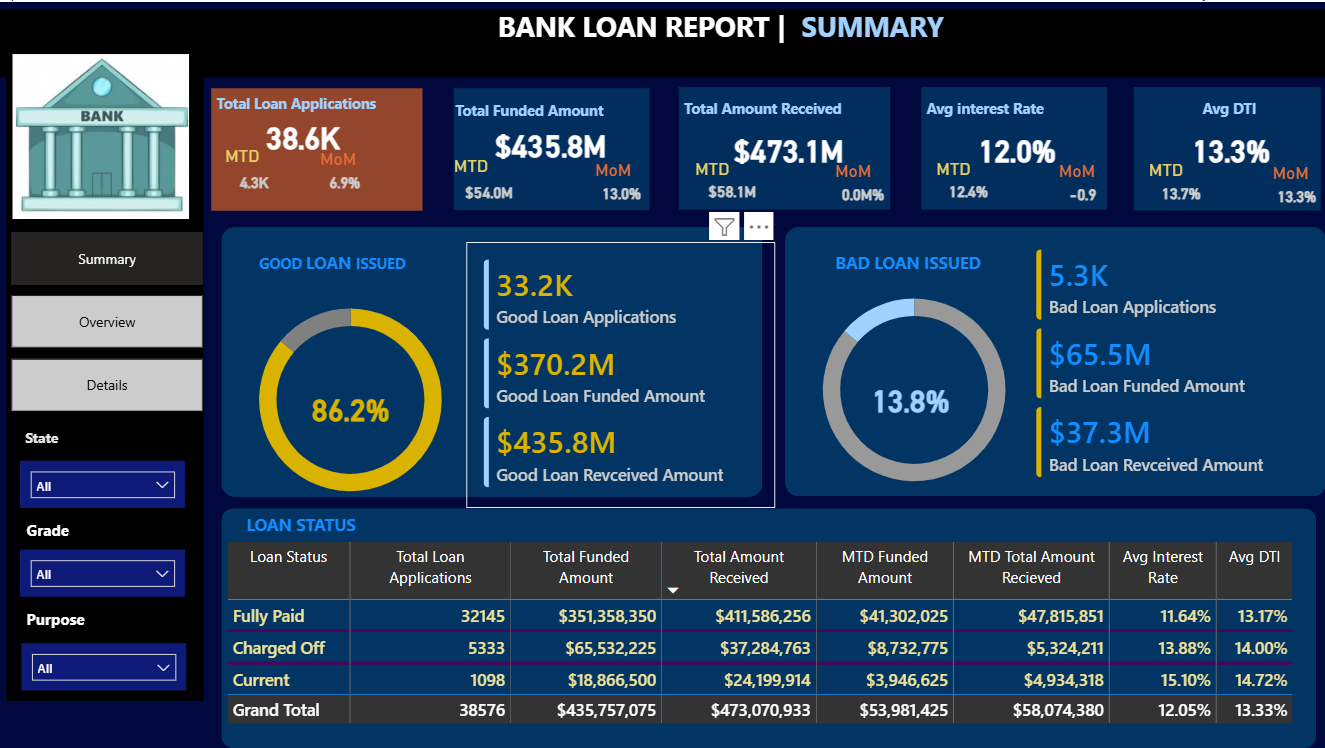

The page's visual inventory and layout, read from the dashboard file:
{"tool":"powerbi","page":{"name":"Summary","canvas":[1280,720],"ordinal":0},"visuals":[{"type":"shape","box":[0,7.8,1280,65.6],"z":0},{"type":"shape","box":[655.1,82,204,118.2],"z":0,"group":"g1"},{"type":"shape","box":[889.1,82,179.3,118.2],"z":0,"group":"g3"},{"type":"shape","box":[1094.2,82,180.5,119.4],"z":0,"group":"g4"},{"type":"shape","box":[438.1,83.2,189,118],"z":0,"group":"g2"},{"type":"shape","box":[6,19.3,190.6,655.1],"z":1000},{"type":"card","fields":{"Values":["Bank_Loan_Data.Total Funded Amount"]},"box":[470.4,115,122.2,47],"z":1000,"group":"g2"},{"type":"card","fields":{"Values":["Bank_Loan_Data.Total Amount Received"]},"box":[696.7,121.3,128,41.5],"z":1000,"group":"g1"},{"type":"card","fields":{"Values":["Bank_Loan_Data.Avg Interest Rate"]},"box":[925.7,121.3,112.6,41.5],"z":1000,"group":"g3"},{"type":"card","fields":{"Values":["Bank_Loan_Data.Avg DTI"]},"box":[1131.1,121.7,113.3,41.9],"z":1000,"group":"g4"},{"type":"textbox","box":[474.8,0,451.5,49.4],"z":2000},{"type":"card","title":"MoM","fields":{"Values":["Bank_Loan_Data.MoM Total Funded Amount"]},"box":[569.4,152.2,61.1,49.4],"z":2000,"group":"g2"},{"type":"card","title":"MoM","fields":{"Values":["Bank_Loan_Data.MoM Total Amount Recieved"]},"box":[801,153.2,64,43.4],"z":2000,"group":"g1"},{"type":"card","title":"MoM","fields":{"Values":["Bank_Loan_Data.MoM Avg Int Rate"]},"box":[1017.4,153.2,56.3,43.4],"z":2000,"group":"g3"},{"type":"card","title":"MoM","fields":{"Values":["Bank_Loan_Data.MoM Avg DTI"]},"box":[1223.3,153.9,56.7,43.9],"z":2000,"group":"g4"},{"type":"shape","box":[203.9,83.2,203.9,118.2],"z":3000},{"type":"textbox","box":[655.4,87.8,208.4,33.8],"z":3000,"group":"g1"},{"type":"textbox","box":[889.4,87.8,183.3,33.8],"z":3000,"group":"g3"},{"type":"textbox","box":[1094.5,87.9,184.5,34.1],"z":3000,"group":"g4"},{"type":"textbox","box":[434.2,90.4,196.2,30],"z":3000,"group":"g2"},{"type":"textbox","box":[203.9,83.2,176.1,31.4],"z":4000},{"type":"card","title":"MTD","fields":{"Values":["Bank_Loan_Data.MTD Funded Amount"]},"box":[433.1,148.5,78.1,54.2],"z":4000,"group":"g2"},{"type":"card","title":"MTD","fields":{"Values":["Bank_Loan_Data.MTD Total Amount Recieved"]},"box":[665.5,150.8,81.9,48.3],"z":4000,"group":"g1"},{"type":"card","title":"MTD","fields":{"Values":["Bank_Loan_Data.MTD Avg Int Rate"]},"box":[898.2,150.8,72,48.3],"z":4000,"group":"g3"},{"type":"card","title":"MTD","fields":{"Values":["Bank_Loan_Data.MTD Avg DTI"]},"box":[1103.4,151.5,72.5,48.8],"z":4000,"group":"g4"},{"type":"card","title":"MoM","fields":{"Values":["Bank_Loan_Data.MoM Loan Applications"]},"box":[304,141.2,57.9,49.5],"z":5000},{"type":"shape","box":[213.5,217.2,522.4,260.6],"z":6000},{"type":"card","fields":{"Values":["Bank_Loan_Data.Total Loan Applications"]},"box":[235.3,105,114.6,49.5],"z":7000},{"type":"card","title":"MTD","fields":{"Values":["Bank_Loan_Data.MTD Loan Applications"]},"box":[212.3,138.7,66.4,54.3],"z":8000},{"type":"group","id":"g1","title":"Group 1","box":[655.1,82,209.9,118.2],"z":9000},{"type":"group","id":"g2","title":"Group 1","box":[433.1,83.2,197.4,119.4],"z":10000},{"type":"group","id":"g3","title":"Group 1","box":[889.1,82,183.4,118.2],"z":11000},{"type":"group","id":"g4","title":"Group 1","box":[1094.2,82,185.8,119.4],"z":12000},{"type":"shape","box":[757.5,217.5,522.5,260],"z":13000},{"type":"donutChart","fields":{"Category":["Bank_Loan_Data.Good vs Bad Loan"],"Y":["Bank_Loan_Data.Total Loan Applications"]},"box":[213.5,269,249.7,230.4],"z":14000},{"type":"card","fields":{"Values":["Bank_Loan_Data.Good Loan %"]},"box":[284.7,355.9,107.4,73.6],"z":15000},{"type":"textbox","box":[245,235,235,46.2],"z":16000},{"type":"cardVisual","fields":{"Data":["Bank_Loan_Data.Good Loan Applications","Bank_Loan_Data.Good Loan Funded Amount","Bank_Loan_Data.Good Loan Revceived Amount"]},"box":[450,231.6,298,257],"z":17000},{"type":"donutChart","fields":{"Category":["Bank_Loan_Data.Good vs Bad Loan"],"Y":["Bank_Loan_Data.Total Loan Applications"]},"box":[757.6,259.4,249.7,230.4],"z":18000},{"type":"textbox","box":[801.1,235.3,185.8,42.2],"z":19000},{"type":"card","fields":{"Values":["Bank_Loan_Data.Bad Loan %"]},"box":[825.2,347.5,107.4,73.6],"z":20000},{"type":"shape","box":[213.5,488.6,1056.8,231.6],"z":21000},{"type":"cardVisual","fields":{"Data":["Bank_Loan_Data.Bad Loan Applications","Bank_Loan_Data.Bad Loan Funded Amount","Bank_Loan_Data.Bad Loan Revceived Amount"]},"box":[983.2,222,296.8,255.8],"z":22000},{"type":"tableEx","fields":{"Values":["Bank_Loan_Data.loan_status","Bank_Loan_Data.Total Loan Applications","Bank_Loan_Data.Total Funded Amount","Bank_Loan_Data.Total Amount Received","Bank_Loan_Data.MTD Funded Amount","Bank_Loan_Data.MTD Total Amount Recieved","Bank_Loan_Data.Avg Interest Rate","Bank_Loan_Data.Avg DTI"]},"box":[213.5,516.4,1048.4,203.9],"z":23000},{"type":"textbox","box":[232.8,488.6,318.5,31.4],"z":24000},{"type":"slicer","fields":{"Values":["Bank_Loan_Data.address_state"]},"box":[19.3,442.8,159.3,45.8],"z":25000},{"type":"textbox","box":[19.3,406.6,78.4,36.2],"z":26000},{"type":"slicer","fields":{"Values":["Bank_Loan_Data.grade"]},"box":[19.3,528.4,159.3,45.8],"z":27000},{"type":"textbox","box":[20.5,494.6,78.4,33.8],"z":28000},{"type":"slicer","fields":{"Values":["Bank_Loan_Data.purpose"]},"box":[20.5,618.9,159.3,45.8],"z":29000},{"type":"textbox","box":[20.5,580.3,132.7,38.6],"z":30000},{"type":"image","box":[12.1,47.1,170.1,165.3],"z":31000},{"type":"pageNavigator","box":[10.9,222,185.8,174.9],"z":32000}]}

Visuals, with their boxes in screenshot pixels (x1, y1, x2, y2), scaled from the page's 1280x720 canvas onto the 1325x748 screenshot:
shape: {"left": 0, "top": 8, "right": 1324, "bottom": 76}
shape: {"left": 678, "top": 85, "right": 889, "bottom": 208}
shape: {"left": 920, "top": 85, "right": 1106, "bottom": 208}
shape: {"left": 1133, "top": 85, "right": 1320, "bottom": 209}
shape: {"left": 454, "top": 86, "right": 649, "bottom": 209}
shape: {"left": 6, "top": 20, "right": 204, "bottom": 701}
card - Bank_Loan_Data.Total Funded Amount: {"left": 487, "top": 119, "right": 613, "bottom": 168}
card - Bank_Loan_Data.Total Amount Received: {"left": 721, "top": 126, "right": 854, "bottom": 169}
card - Bank_Loan_Data.Avg Interest Rate: {"left": 958, "top": 126, "right": 1075, "bottom": 169}
card - Bank_Loan_Data.Avg DTI: {"left": 1171, "top": 126, "right": 1288, "bottom": 170}
textbox: {"left": 491, "top": 0, "right": 959, "bottom": 51}
"MoM" card: {"left": 589, "top": 158, "right": 653, "bottom": 209}
"MoM" card: {"left": 829, "top": 159, "right": 895, "bottom": 204}
"MoM" card: {"left": 1053, "top": 159, "right": 1111, "bottom": 204}
"MoM" card: {"left": 1266, "top": 160, "right": 1324, "bottom": 205}
shape: {"left": 211, "top": 86, "right": 422, "bottom": 209}
textbox: {"left": 678, "top": 91, "right": 894, "bottom": 126}
textbox: {"left": 921, "top": 91, "right": 1110, "bottom": 126}
textbox: {"left": 1133, "top": 91, "right": 1324, "bottom": 127}
textbox: {"left": 449, "top": 94, "right": 653, "bottom": 125}
textbox: {"left": 211, "top": 86, "right": 393, "bottom": 119}
"MTD" card: {"left": 448, "top": 154, "right": 529, "bottom": 211}
"MTD" card: {"left": 689, "top": 157, "right": 774, "bottom": 207}
"MTD" card: {"left": 930, "top": 157, "right": 1004, "bottom": 207}
"MTD" card: {"left": 1142, "top": 157, "right": 1217, "bottom": 208}
"MoM" card: {"left": 315, "top": 147, "right": 375, "bottom": 198}
shape: {"left": 221, "top": 226, "right": 762, "bottom": 496}
card - Bank_Loan_Data.Total Loan Applications: {"left": 244, "top": 109, "right": 362, "bottom": 161}
"MTD" card: {"left": 220, "top": 144, "right": 288, "bottom": 201}
"Group 1" group: {"left": 678, "top": 85, "right": 895, "bottom": 208}
"Group 1" group: {"left": 448, "top": 86, "right": 653, "bottom": 210}
"Group 1" group: {"left": 920, "top": 85, "right": 1110, "bottom": 208}
"Group 1" group: {"left": 1133, "top": 85, "right": 1324, "bottom": 209}
shape: {"left": 784, "top": 226, "right": 1324, "bottom": 496}
donutChart - Bank_Loan_Data.Good vs Bad Loan x Bank_Loan_Data.Total Loan Applications: {"left": 221, "top": 279, "right": 479, "bottom": 519}
card - Bank_Loan_Data.Good Loan %: {"left": 295, "top": 370, "right": 406, "bottom": 446}
textbox: {"left": 254, "top": 244, "right": 497, "bottom": 292}
cardVisual - Bank_Loan_Data.Good Loan Applications x Bank_Loan_Data.Good Loan Funded Amount: {"left": 466, "top": 241, "right": 774, "bottom": 508}
donutChart - Bank_Loan_Data.Good vs Bad Loan x Bank_Loan_Data.Total Loan Applications: {"left": 784, "top": 269, "right": 1043, "bottom": 509}
textbox: {"left": 829, "top": 244, "right": 1022, "bottom": 288}
card - Bank_Loan_Data.Bad Loan %: {"left": 854, "top": 361, "right": 965, "bottom": 437}
shape: {"left": 221, "top": 508, "right": 1315, "bottom": 747}
cardVisual - Bank_Loan_Data.Bad Loan Applications x Bank_Loan_Data.Bad Loan Funded Amount: {"left": 1018, "top": 231, "right": 1324, "bottom": 496}
tableEx - Bank_Loan_Data.loan_status x Bank_Loan_Data.Total Loan Applications: {"left": 221, "top": 536, "right": 1306, "bottom": 747}
textbox: {"left": 241, "top": 508, "right": 571, "bottom": 540}
slicer - Bank_Loan_Data.address_state: {"left": 20, "top": 460, "right": 185, "bottom": 508}
textbox: {"left": 20, "top": 422, "right": 101, "bottom": 460}
slicer - Bank_Loan_Data.grade: {"left": 20, "top": 549, "right": 185, "bottom": 597}
textbox: {"left": 21, "top": 514, "right": 102, "bottom": 549}
slicer - Bank_Loan_Data.purpose: {"left": 21, "top": 643, "right": 186, "bottom": 691}
textbox: {"left": 21, "top": 603, "right": 159, "bottom": 643}
image: {"left": 13, "top": 49, "right": 189, "bottom": 221}
pageNavigator: {"left": 11, "top": 231, "right": 204, "bottom": 412}
